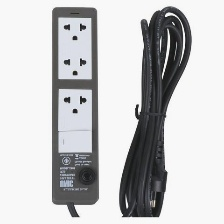three_eye_plug: (47, 5, 99, 206)
